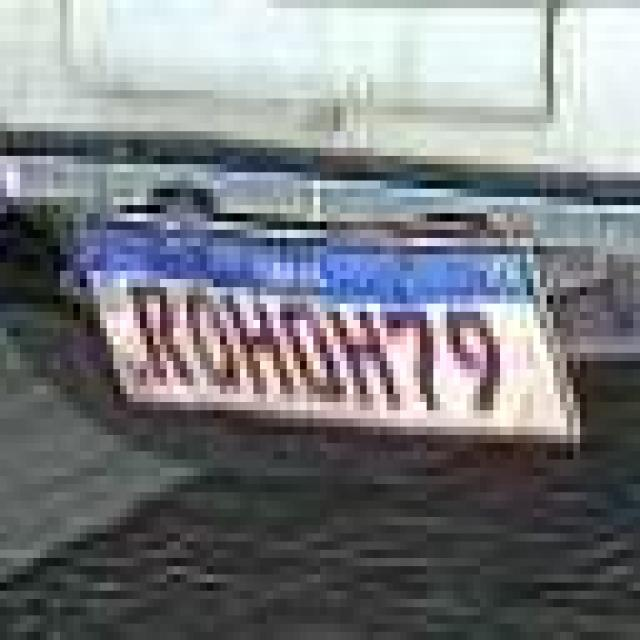0: (284, 286, 338, 399)
7: (392, 304, 448, 417)
9: (443, 300, 506, 420)
H: (338, 306, 401, 413), (330, 291, 390, 402), (233, 285, 282, 394)
O: (186, 277, 234, 391)
R: (124, 282, 188, 389)
